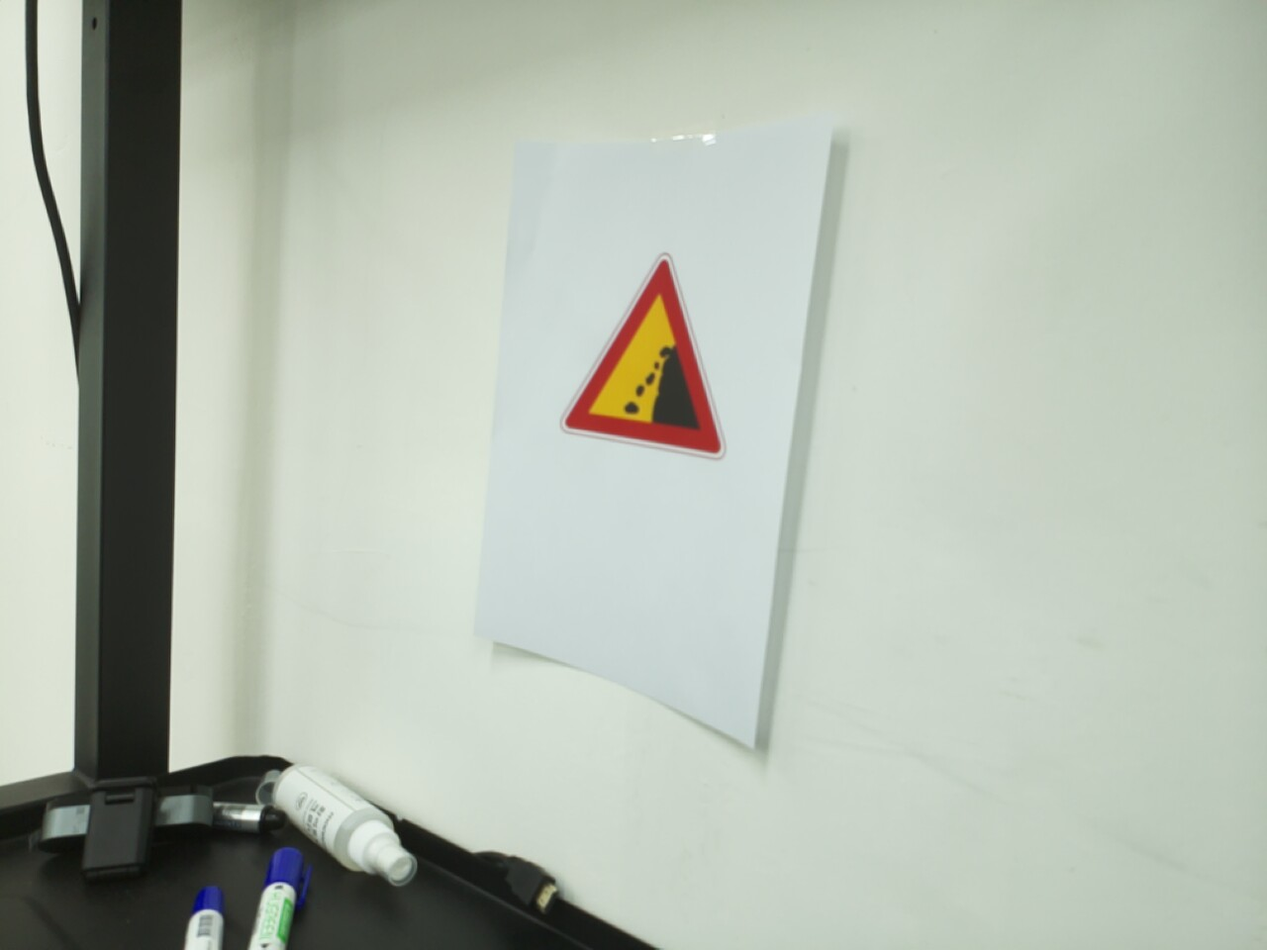falling_rocks: (558, 251, 728, 461)
